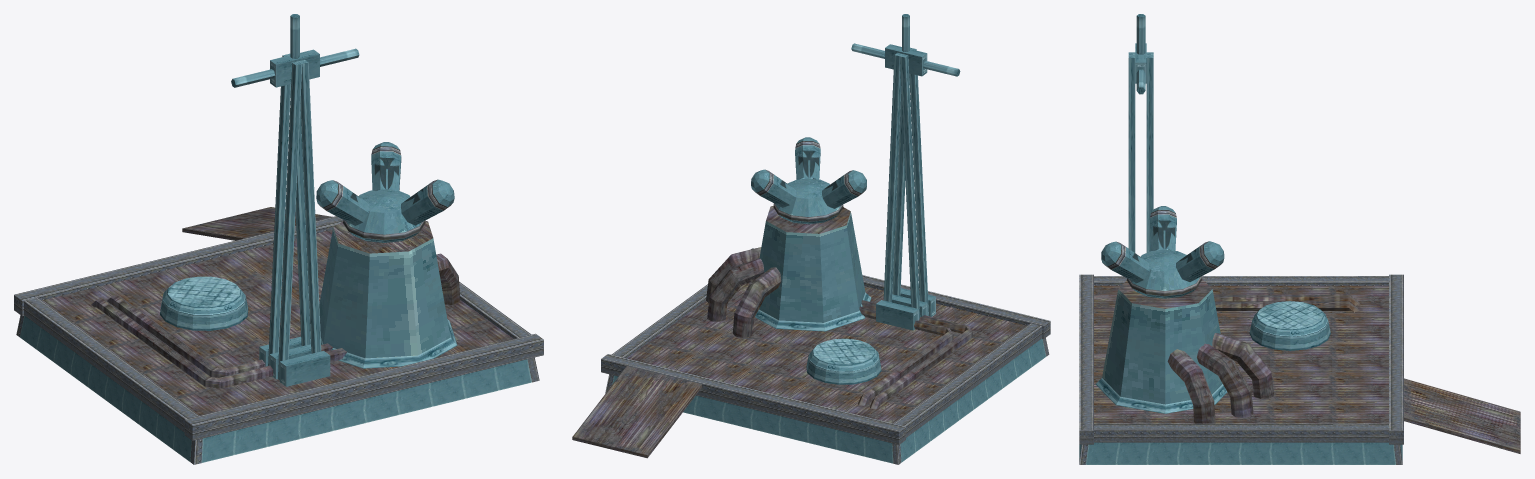
The model's file is C4SMRADIOH.obj.
The picture shows the model from 3 angles, left to right: view 1: azimuth 30°, elevation 25°; view 2: azimuth 150°, elevation 25°; view 3: azimuth 270°, elevation 25°; orthographic projection. The views are drawn at different scales.
Parts seen in each view (by area): view 1: Node 0, Node 9, Node 3, Node 11, Node 5, Node 10; view 2: Node 0, Node 9, Node 3, Node 10, Node 11, Node 5; view 3: Node 0, Node 3, Node 10, Node 11, Node 9, Node 5.
Boxes of the visible parts, <box> form: Node 0: <box>14,207,543,464</box>; Node 9: <box>268,53,321,379</box>; Node 3: <box>316,142,454,242</box>; Node 11: <box>160,276,248,330</box>; Node 5: <box>231,14,359,87</box>; Node 10: <box>436,253,459,304</box>; Node 0: <box>572,206,1050,464</box>; Node 9: <box>883,47,928,320</box>; Node 3: <box>751,137,866,224</box>; Node 10: <box>706,247,781,337</box>; Node 11: <box>806,338,881,384</box>; Node 5: <box>851,14,960,76</box>; Node 0: <box>1079,274,1520,464</box>; Node 3: <box>1101,206,1224,298</box>; Node 10: <box>1167,333,1273,423</box>; Node 11: <box>1249,301,1330,350</box>; Node 9: <box>1128,52,1153,252</box>; Node 5: <box>1135,14,1146,94</box>.
Bounding box in the file's own units: 14.32 × 15.29 × 17.13.
13 materials, 13 textured.
